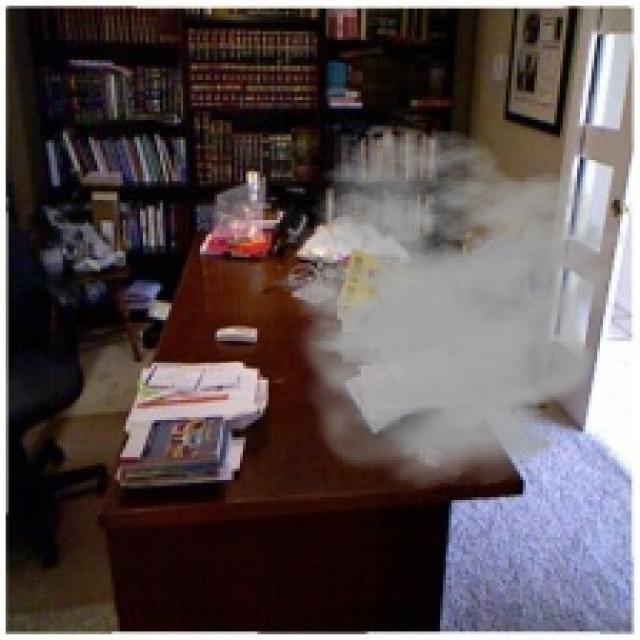smoke: (254, 128, 626, 488)
